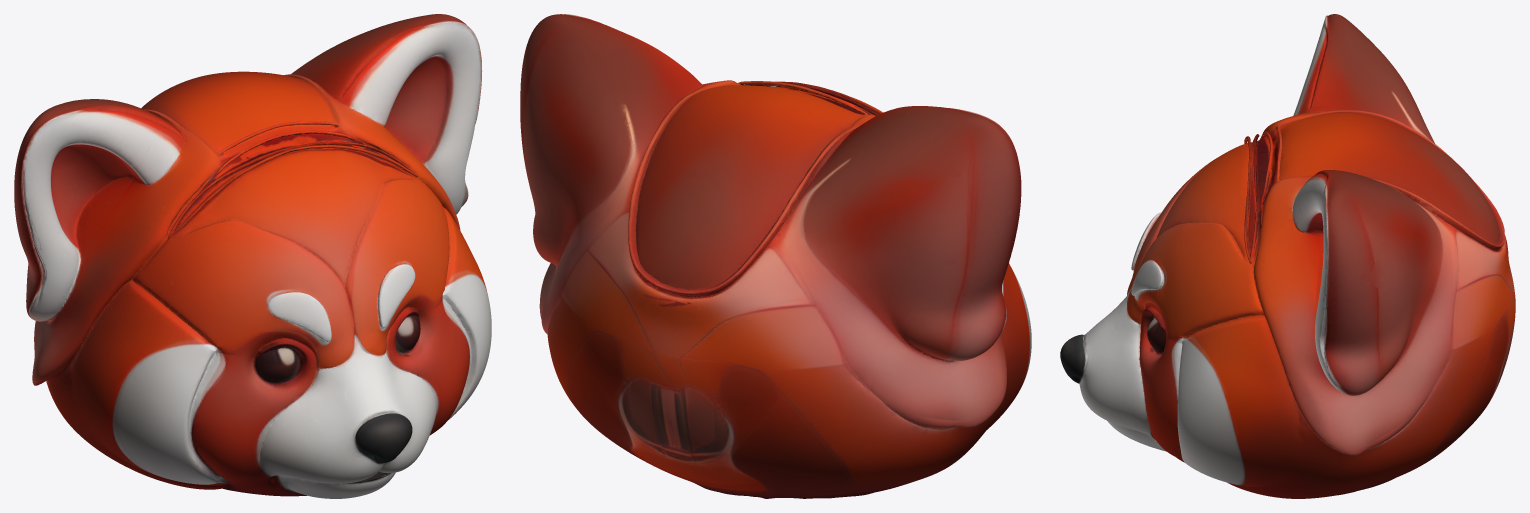
File: base_basic_pbr.glb
3 views of the same model, side by side, from view 1: azimuth 30°, elevation 25°; view 2: azimuth 150°, elevation 25°; view 3: azimuth 270°, elevation 25° (orthographic). The views are drawn at different scales.
Visible parts, largest first — view 1: model; view 2: model; view 3: model.
Part boxes in pixels (bbox=[...]): model: bbox=[14, 14, 491, 498]; model: bbox=[520, 14, 1031, 498]; model: bbox=[1060, 14, 1515, 498].
Bounding box in the file's own units: 1.9 × 1.53 × 1.75.
1 material, 1 textured.
